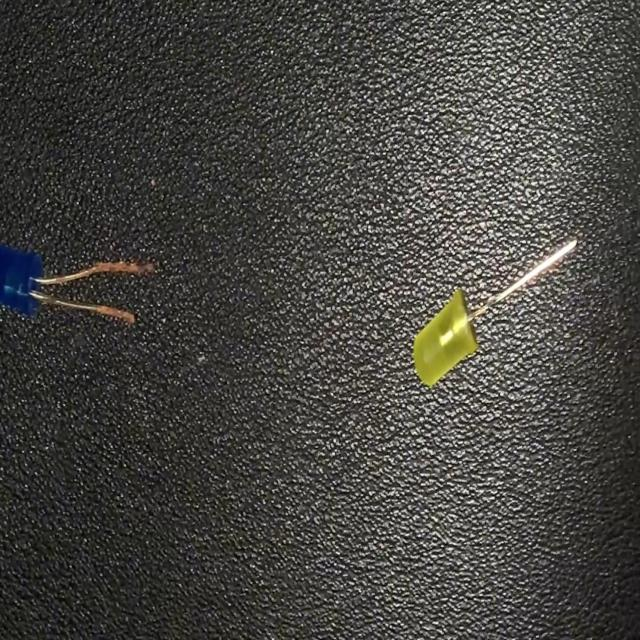LED: (0, 237, 156, 331)
missing-leg: (410, 232, 579, 390)
rust: (83, 255, 152, 283), (92, 300, 136, 327)
